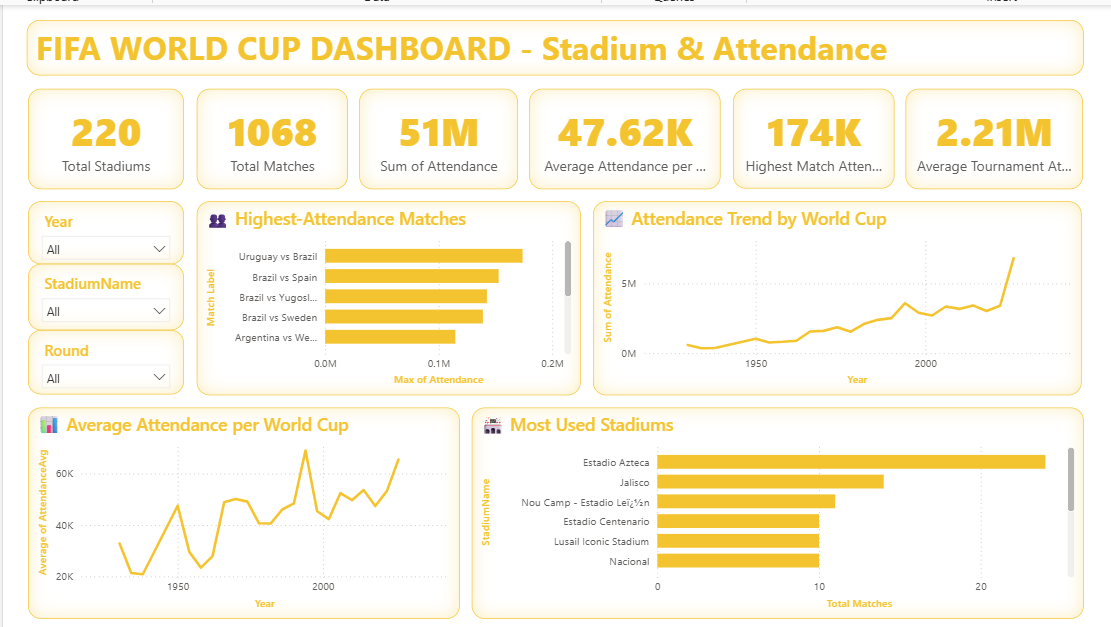

What the dashboard file says about the page in this screenshot:
{"tool":"powerbi","page":{"name":"Stadium & Attendance Analysis","canvas":[1280,720],"ordinal":3},"visuals":[{"type":"slicer","fields":{"Values":["DimWorldCup.Year"]},"box":[28.5,226,179.8,73],"z":0},{"type":"slicer","fields":{"Values":["DimStadium.StadiumName"]},"box":[28.5,299,179.8,76.5],"z":1000},{"type":"slicer","fields":{"Values":["FactMatch.Round"]},"box":[28.5,375.5,179.8,74.8],"z":2000},{"type":"card","fields":{"Values":["DimReferee.Total Stadiums"]},"box":[28.5,96.1,179.8,115.7],"z":3000},{"type":"card","fields":{"Values":["DimReferee.Total Matches"]},"box":[224.3,96.1,174.4,115.7],"z":4000},{"type":"card","fields":{"Values":["Sum(DimWorldCup.Attendance)"]},"box":[411.1,96.1,183.3,115.7],"z":5000},{"type":"card","fields":{"Values":["DimReferee.Average Attendance per Match"]},"box":[606.9,96.1,220.7,115.7],"z":6000},{"type":"card","fields":{"Values":["DimReferee.Highest Match Attendance"]},"box":[842,96,186,115],"z":7000},{"type":"card","fields":{"Values":["DimReferee.Average Tournament Attendance"]},"box":[1041.2,96.1,204.7,115.7],"z":8000},{"type":"clusteredBarChart","title":"🏟️ Most Used Stadiums","fields":{"Category":["DimStadium.StadiumName"],"Y":["DimReferee.Total Matches"]},"box":[541.1,464.5,706.6,243.8],"z":9000},{"type":"clusteredBarChart","title":"👥 Highest-Attendance Matches","fields":{"Category":["FactMatch.Match Label"],"Y":["Sum(FactMatch.Attendance)"]},"box":[224.3,226,443.2,224.3],"z":10000},{"type":"lineChart","title":"📈 Attendance Trend by World Cup","fields":{"Category":["DimWorldCup.Year"],"Y":["Sum(DimWorldCup.Attendance)"]},"box":[681.7,226,564.2,224.3],"z":11000},{"type":"lineChart","title":"📊 Average Attendance per World Cup","fields":{"Category":["DimWorldCup.Year"],"Y":["Avg(DimWorldCup.AttendanceAvg)"]},"box":[28.5,464.5,498.3,243.8],"z":12000},{"type":"textbox","title":"FIFA WORLD CUP DASHBOARD - Stadium & Attendence","box":[28,17,1220,64],"z":12001}]}

Visuals, with their boxes on the page's 1280x720 design canvas (x1, y1, x2, y2). These are canvas units, not pixel positions in the 1111x627 screenshot, which may show the page scaled, cropped or inside an application window:
slicer - DimWorldCup.Year: <box>28,226,208,299</box>
slicer - DimStadium.StadiumName: <box>28,299,208,376</box>
slicer - FactMatch.Round: <box>28,376,208,450</box>
card - DimReferee.Total Stadiums: <box>28,96,208,212</box>
card - DimReferee.Total Matches: <box>224,96,399,212</box>
card - Sum(DimWorldCup.Attendance): <box>411,96,594,212</box>
card - DimReferee.Average Attendance per Match: <box>607,96,828,212</box>
card - DimReferee.Highest Match Attendance: <box>842,96,1028,211</box>
card - DimReferee.Average Tournament Attendance: <box>1041,96,1246,212</box>
"🏟️ Most Used Stadiums" clusteredBarChart: <box>541,464,1248,708</box>
"👥 Highest-Attendance Matches" clusteredBarChart: <box>224,226,668,450</box>
"📈 Attendance Trend by World Cup" lineChart: <box>682,226,1246,450</box>
"📊 Average Attendance per World Cup" lineChart: <box>28,464,527,708</box>
"FIFA WORLD CUP DASHBOARD - Stadium & Attendence" textbox: <box>28,17,1248,81</box>
